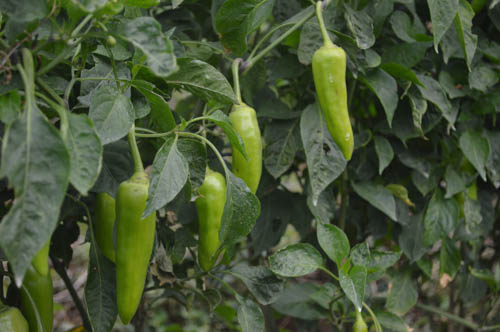ChiliPepper: (117, 183, 155, 328), (314, 49, 355, 161), (228, 107, 261, 197), (199, 174, 225, 269), (94, 191, 116, 261)
